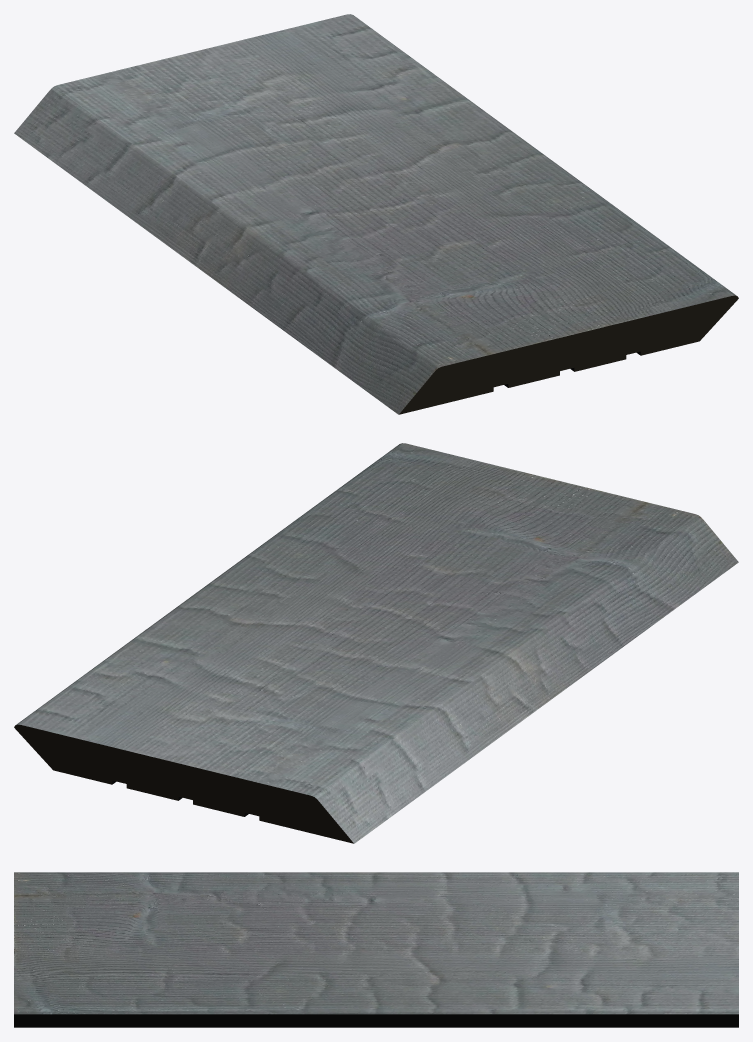
Rendered from thermo-facade-rhombus-graphite.glb.
3 renders of one model, top to bottom at view 1: azimuth 30°, elevation 25°; view 2: azimuth 150°, elevation 25°; view 3: azimuth 270°, elevation 25°, orthographic. The views are drawn at different scales.
Parts seen in each view (by area): view 1: Rombas; view 2: Rombas; view 3: Rombas.
Boxes of the visible parts, x1,y1,x2,y2 form: Rombas: (14,14,738,414); Rombas: (14,443,738,843); Rombas: (14,872,738,1027).
Bounding box in the file's own units: 0.0942 × 0.00994 × 0.1843.
Materials: 3 (1 with a texture image).
